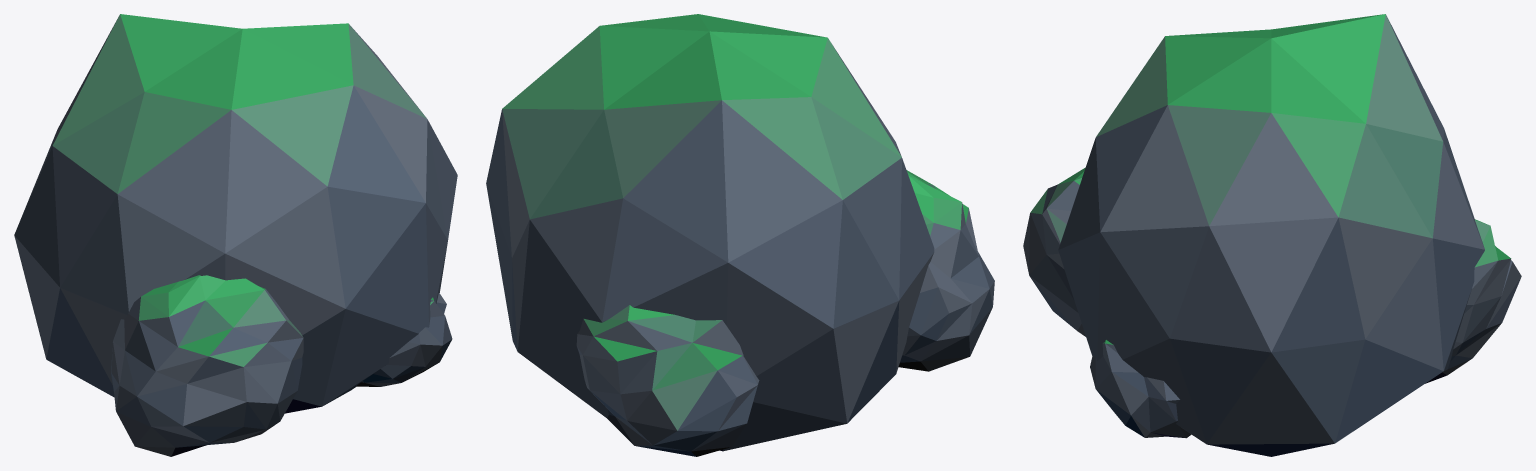
Rendered from batu_boulder_granite_599201.glb.
3 views of the same model, side by side, from view 1: azimuth 30°, elevation 25°; view 2: azimuth 150°, elevation 25°; view 3: azimuth 270°, elevation 25° (orthographic). The views are drawn at different scales.
Visible parts, largest first — view 1: Batu_Jeram_Sungai; view 2: Batu_Jeram_Sungai; view 3: Batu_Jeram_Sungai.
Boxes of the visible parts, left/top/right/bottom form: Batu_Jeram_Sungai: left=14, top=14, right=457, bottom=456; Batu_Jeram_Sungai: left=486, top=14, right=994, bottom=456; Batu_Jeram_Sungai: left=1023, top=14, right=1521, bottom=456.
Bounding box in the file's own units: 5.93 × 4.92 × 6.14.
